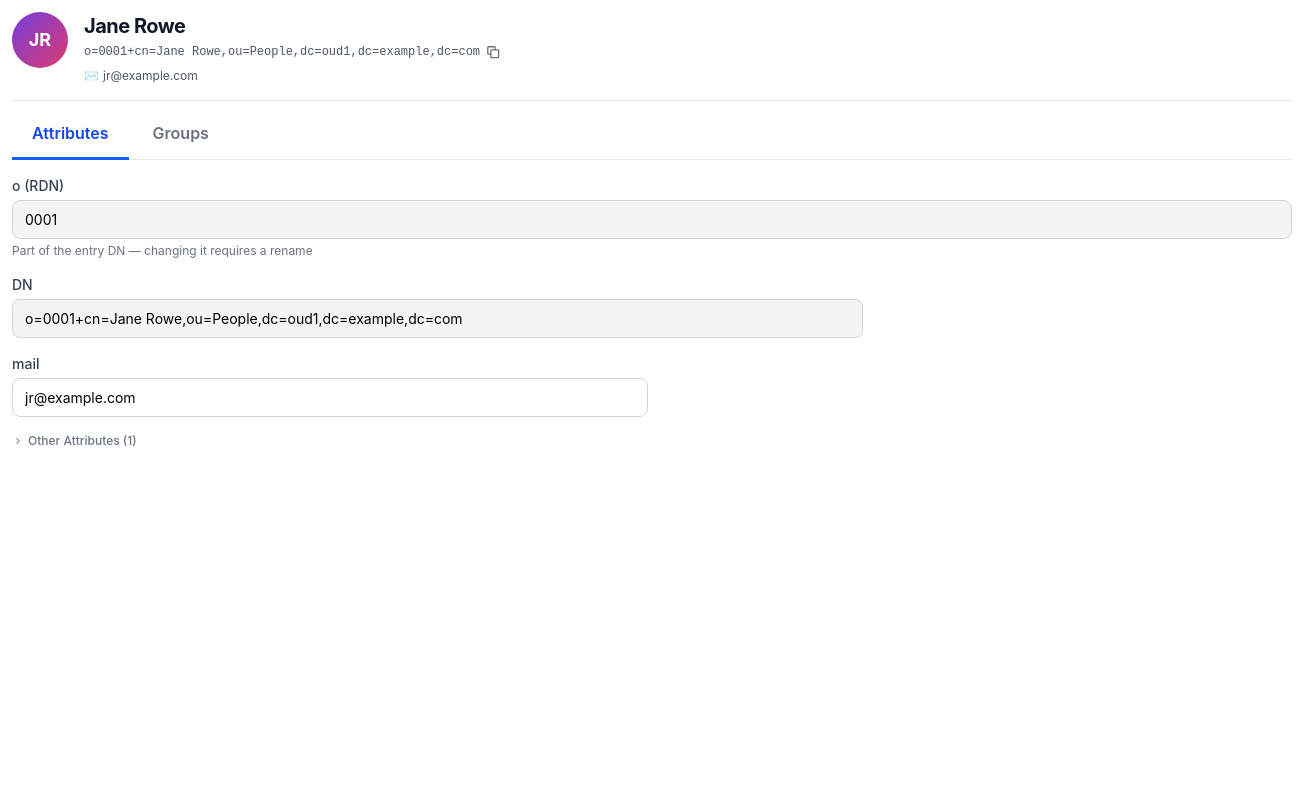
Test: UserForm DN-derived naming attributes › locks a naming attribute that is not in the form config (Other Attributes overflow)
This screenshot has width=1304, height=812.
Click the button "Other Attributes (1)" at point(74, 441), box [12,433,137,449]
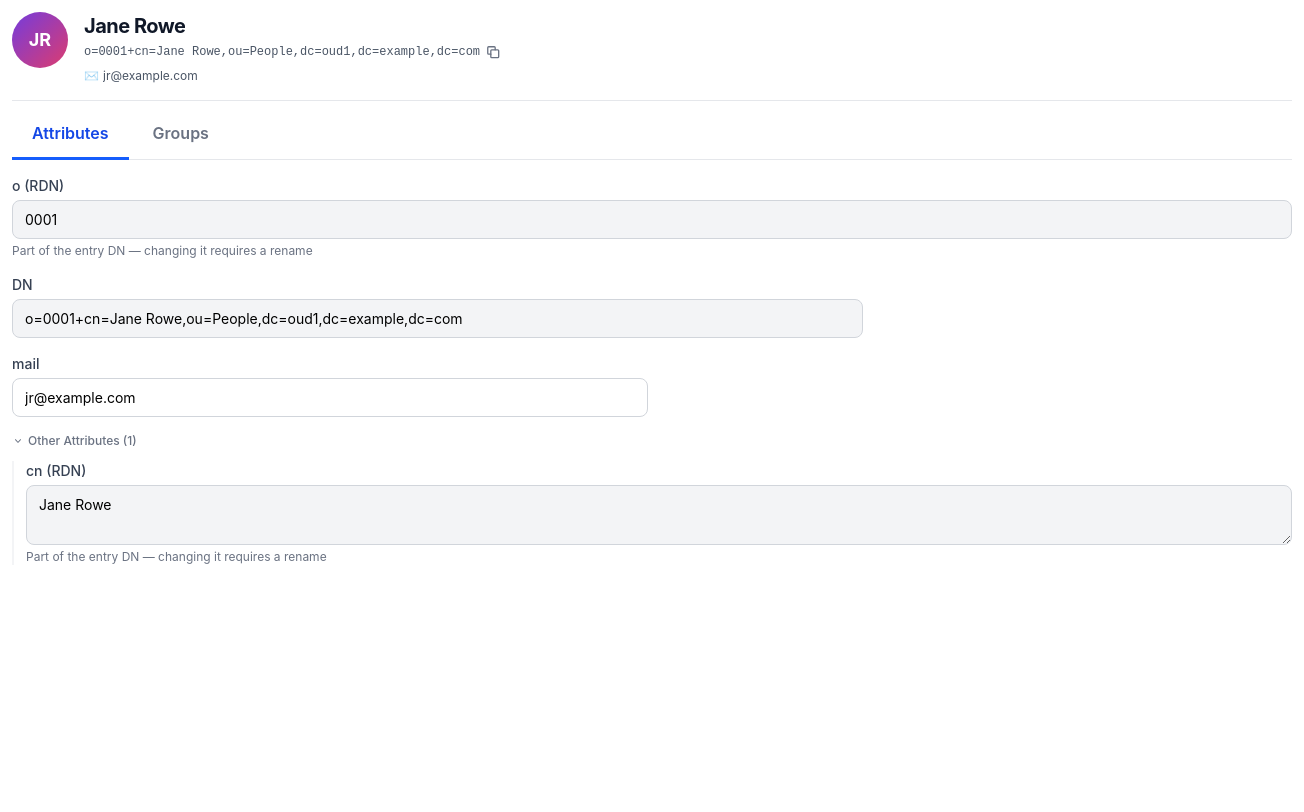
Result: the label "cn (RDN)" is shown at [26,461,86,481]
Result: the text box labelled "cn (RDN)" is disabled at [26,485,1292,545]
